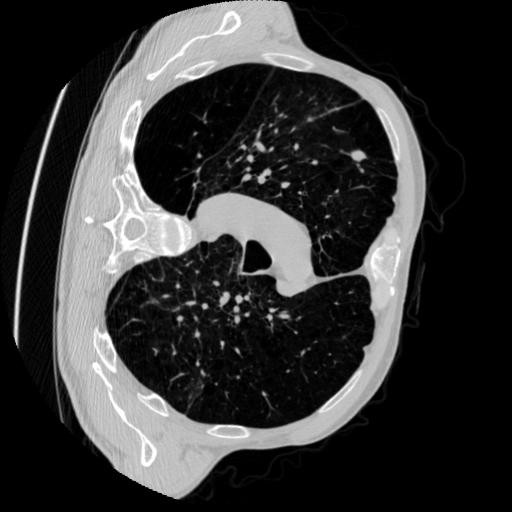nodule: (349, 148, 369, 168)
